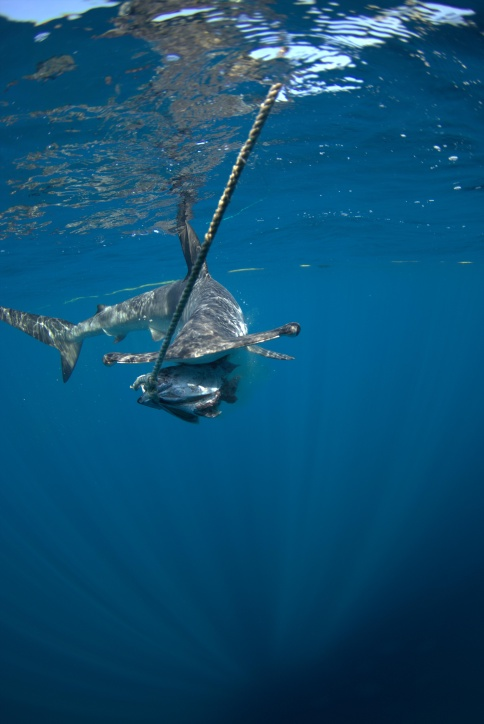Hammer: (1, 207, 355, 470)
